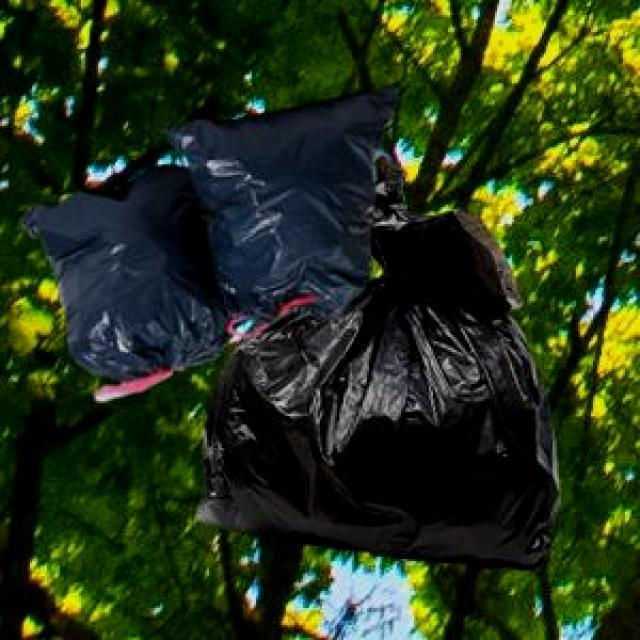Trashbag: (184, 273, 580, 564), (184, 87, 406, 315), (21, 144, 224, 384)
